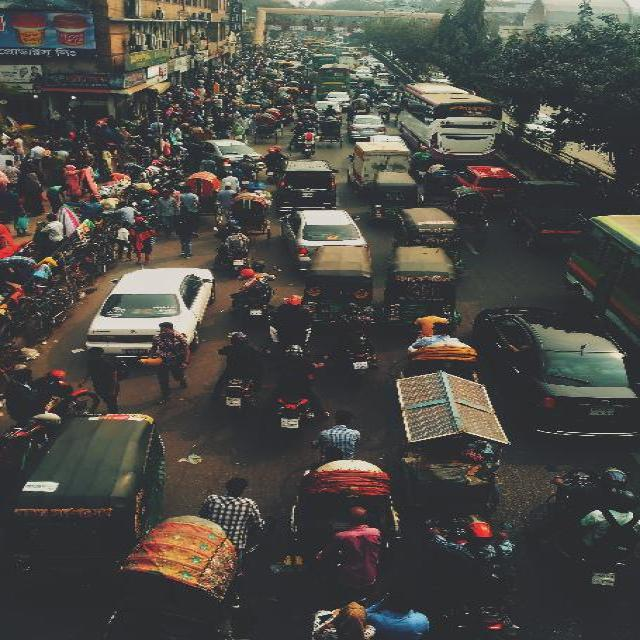Car: (470, 303, 638, 442), (83, 266, 215, 363), (278, 207, 372, 281)
